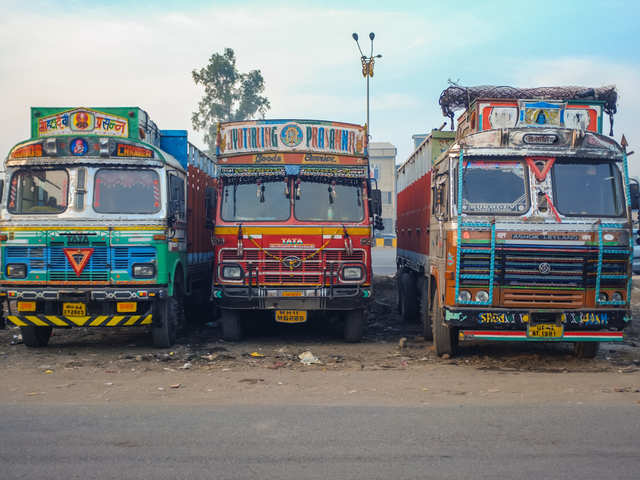truck: (397, 103, 634, 360), (2, 106, 186, 350), (216, 121, 372, 344)
